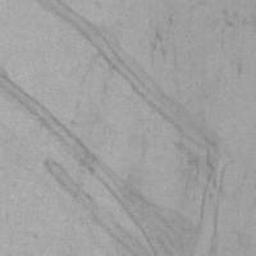Water spot: (0, 0, 237, 256)
